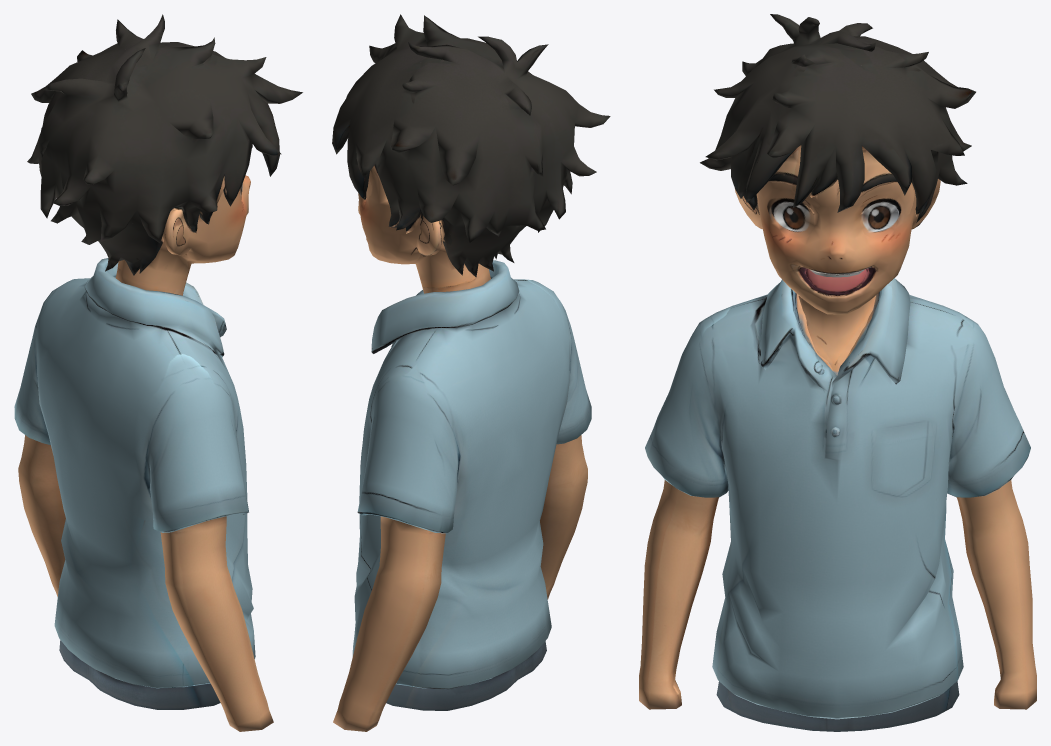
Rendered from cartoon+boy+character+3d+model.glb.
3 views of the same model, side by side, from view 1: azimuth 30°, elevation 25°; view 2: azimuth 150°, elevation 25°; view 3: azimuth 270°, elevation 25° (orthographic). The views are drawn at different scales.
Parts seen in each view (by area): view 1: tripo_node_3ce10afc-196b-49cd-a248-052065191267; view 2: tripo_node_3ce10afc-196b-49cd-a248-052065191267; view 3: tripo_node_3ce10afc-196b-49cd-a248-052065191267.
Boxes of the visible parts, bbox=[...] form: tripo_node_3ce10afc-196b-49cd-a248-052065191267: bbox=[14, 14, 302, 731]; tripo_node_3ce10afc-196b-49cd-a248-052065191267: bbox=[332, 14, 610, 731]; tripo_node_3ce10afc-196b-49cd-a248-052065191267: bbox=[639, 14, 1036, 731].
Bounding box in the file's own units: 0.3965 × 0.998 × 0.541.
Materials: 1 (1 with a texture image).
